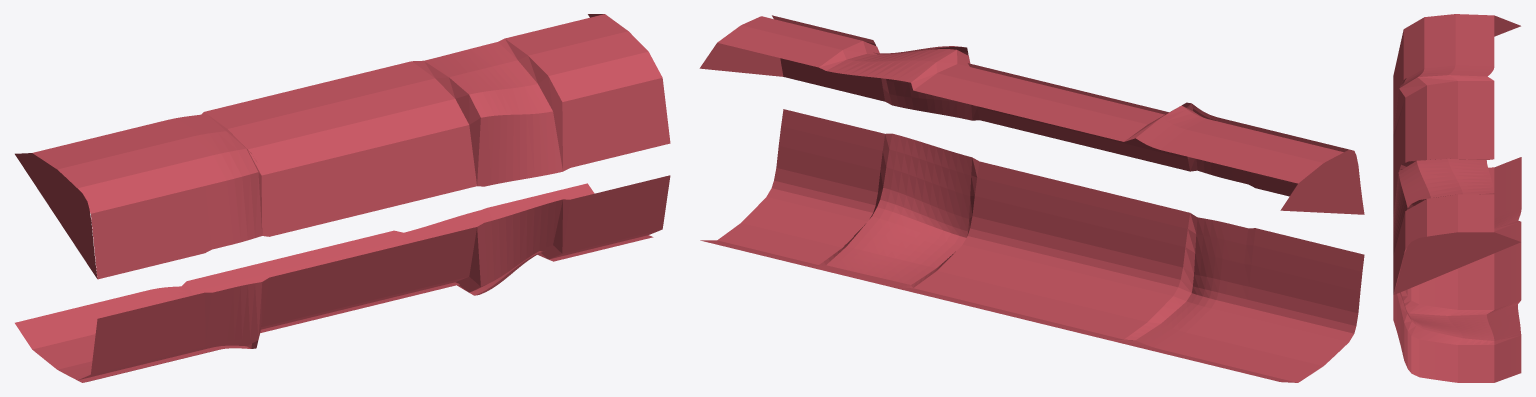
3 views of the same model, side by side, from view 1: azimuth 30°, elevation 25°; view 2: azimuth 150°, elevation 25°; view 3: azimuth 270°, elevation 25° (orthographic). The views are drawn at different scales.
Visible parts, largest first — view 1: world; view 2: world; view 3: world.
Part boxes in pixels (x1,y1,x2,y2): world: (15, 14, 670, 382); world: (699, 15, 1364, 382); world: (1393, 14, 1521, 382).
Size of the model in its own units: 4.7 by 1.59 by 1.18.
